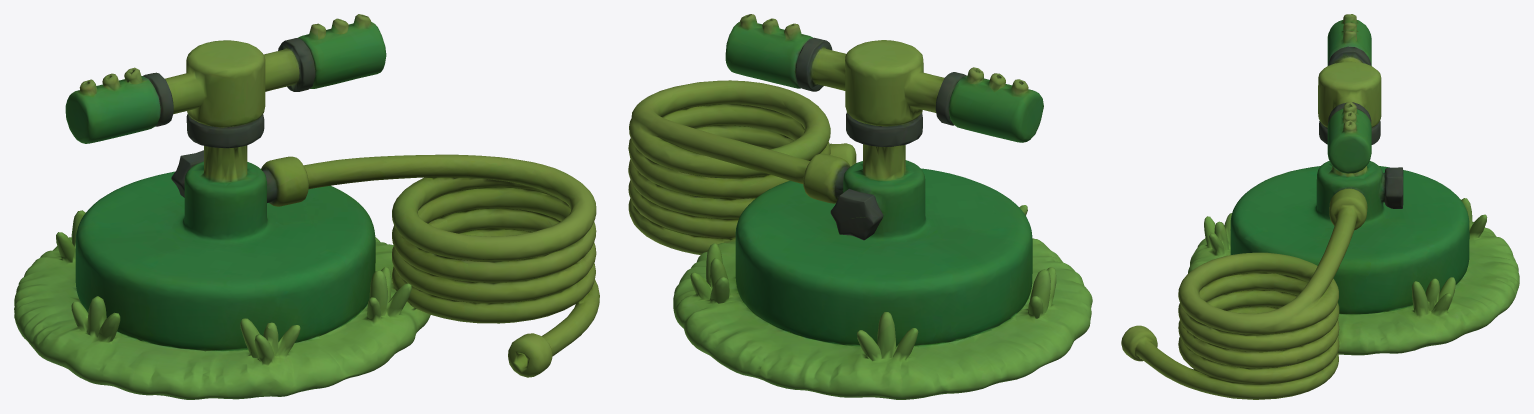
File: 36-irrigador.glb
3 views of the same model, side by side, from view 1: azimuth 30°, elevation 25°; view 2: azimuth 150°, elevation 25°; view 3: azimuth 270°, elevation 25° (orthographic). The views are drawn at different scales.
Parts seen in each view (by area): view 1: tripo_node_02d5e491-5688-4cfe-931b-2a447e06d3cc; view 2: tripo_node_02d5e491-5688-4cfe-931b-2a447e06d3cc; view 3: tripo_node_02d5e491-5688-4cfe-931b-2a447e06d3cc.
Boxes of the visible parts, x1,y1,x2,y2 form: tripo_node_02d5e491-5688-4cfe-931b-2a447e06d3cc: [14, 14, 599, 399]; tripo_node_02d5e491-5688-4cfe-931b-2a447e06d3cc: [628, 14, 1092, 399]; tripo_node_02d5e491-5688-4cfe-931b-2a447e06d3cc: [1121, 14, 1519, 399].
Bounding box in the file's own units: 1 × 0.5398 × 0.8746.
1 material, 1 textured.
